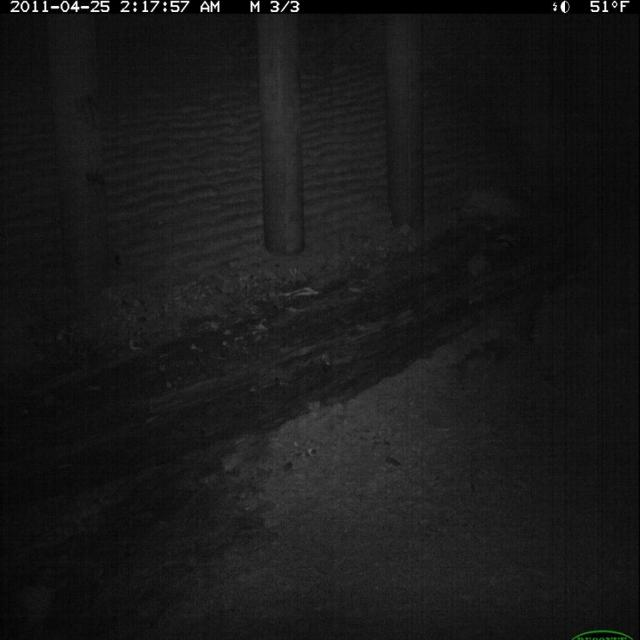opossum: (457, 250, 495, 288)
